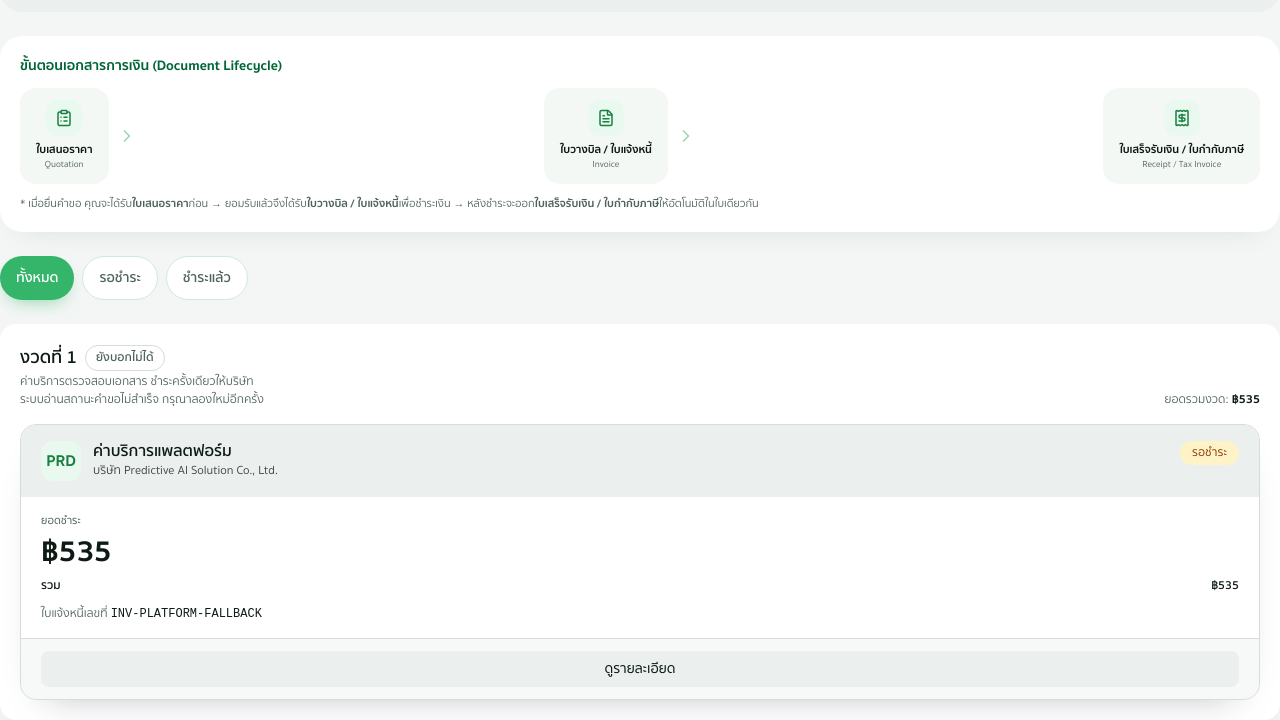
Test case: HealthPaymentsPage — one-fee residue copy › a non-CHECKOUT invoice with no line items: the fallback names ค่าบริการ, not ค่าบริการแพลตฟอร์ม (10%)
(page scrolled)
What coordinates should you click on to do the following:
click the button "ดูรายละเอียด"
I would click on:
 (640, 669)
Its box is [41,651,1239,687].
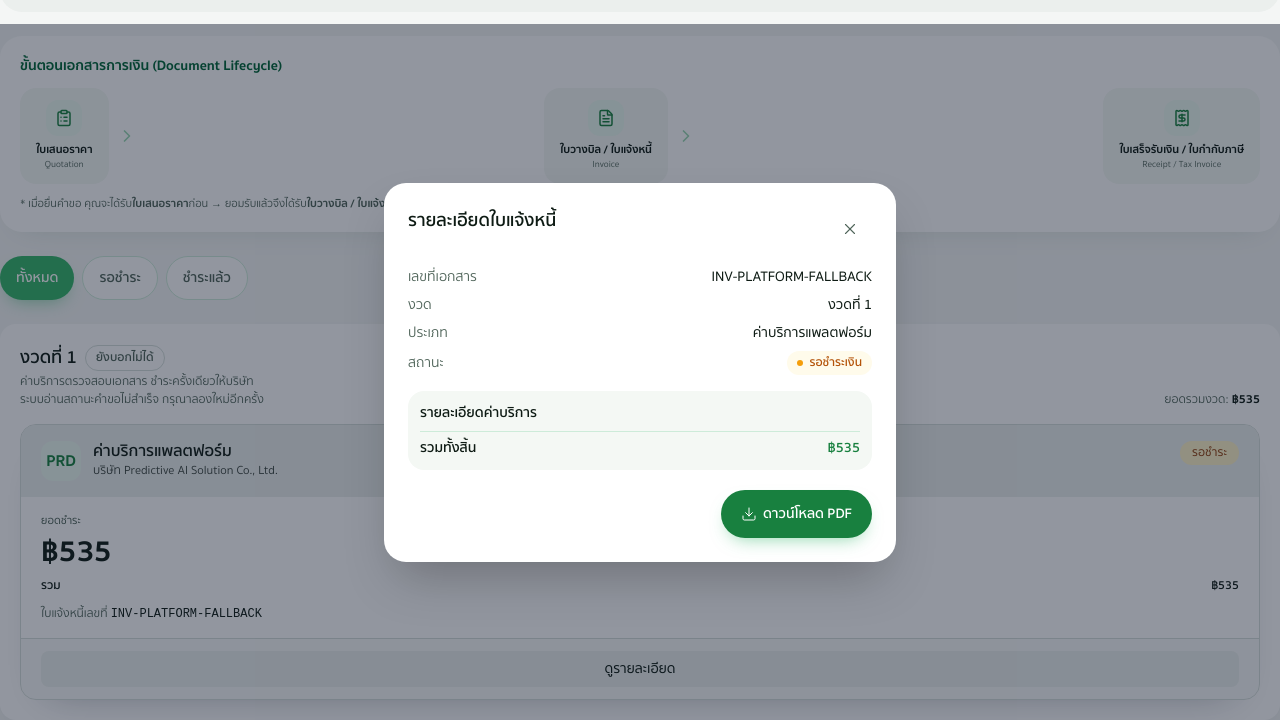
Expected: the dialog shows "ค่าบริการ", [753,322,872,344]
